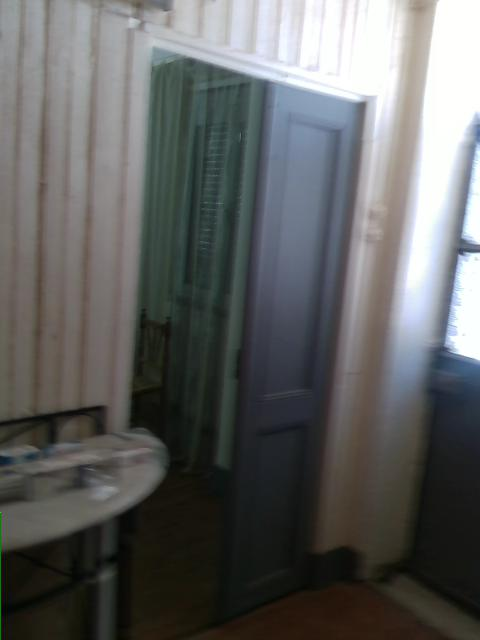door: (232, 80, 364, 619)
